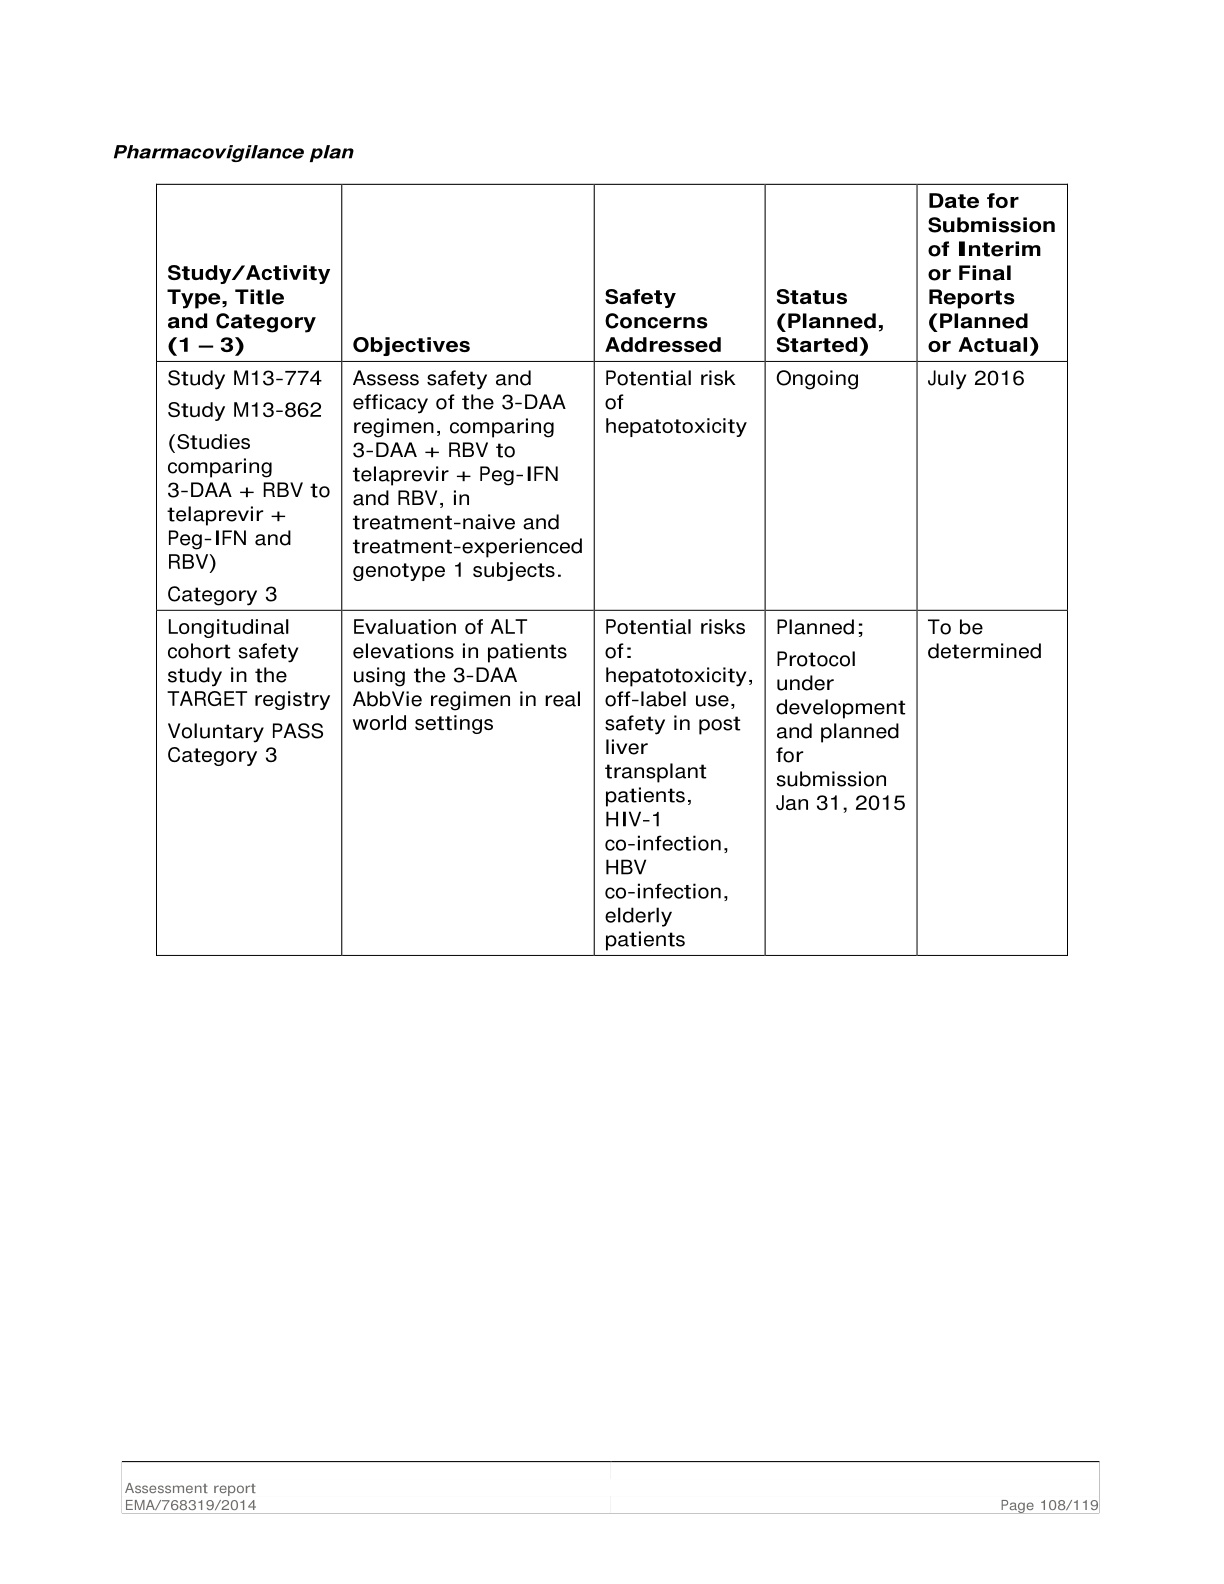full_lined: (156, 183, 1068, 957)
